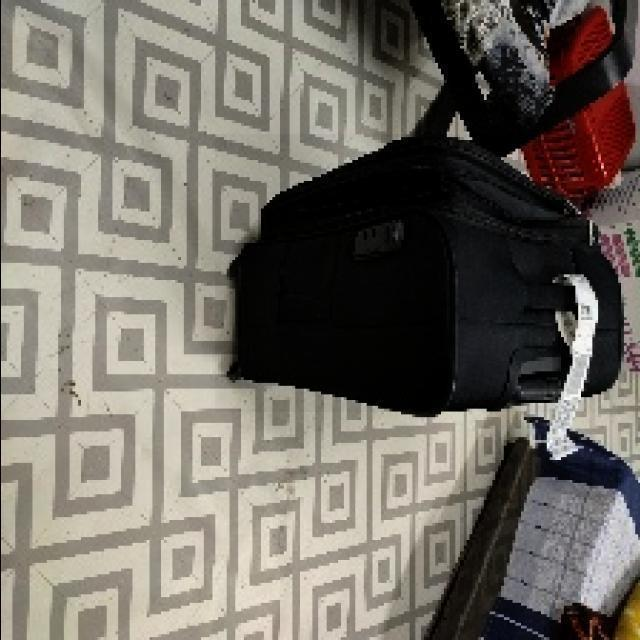Suitcase: (222, 129, 634, 428)
